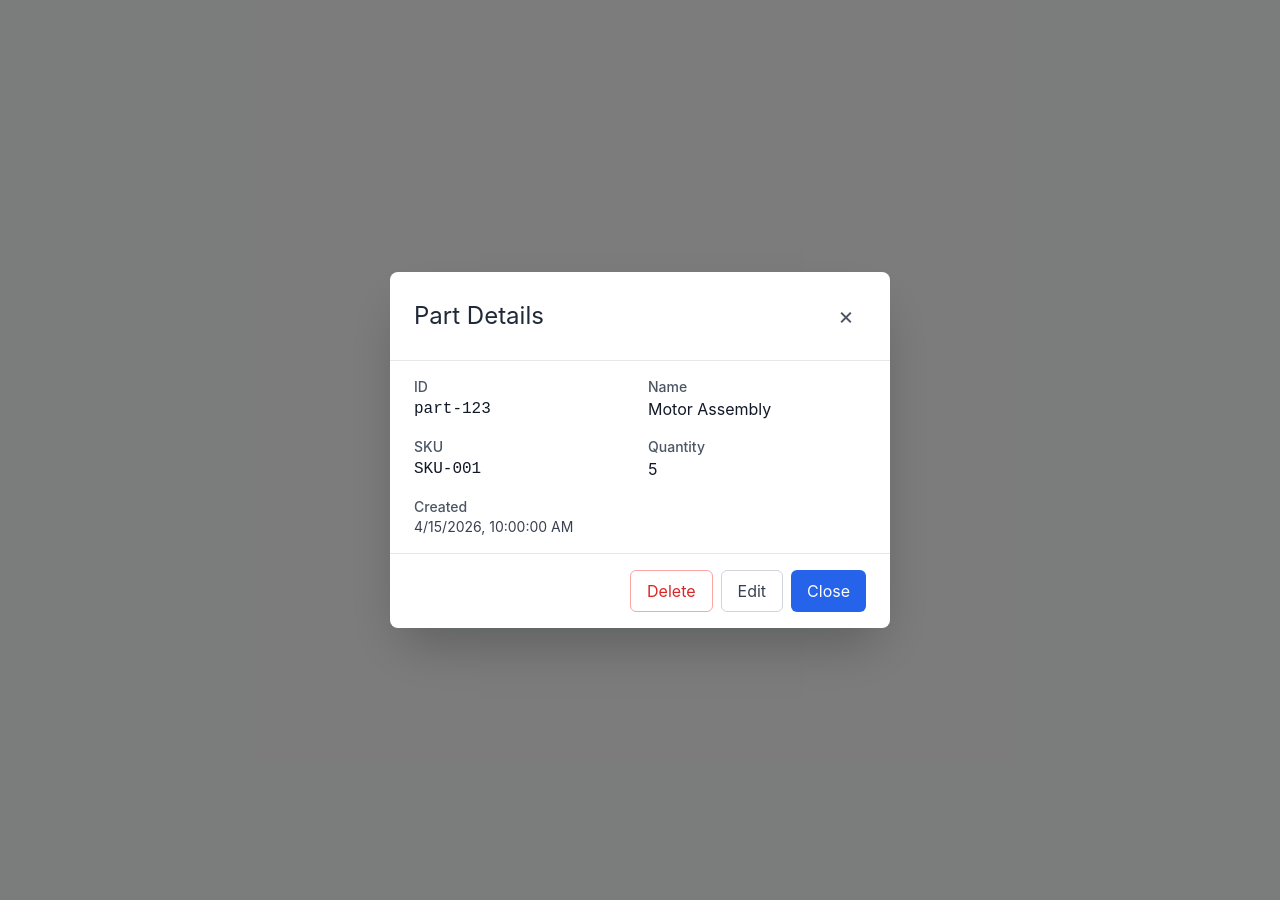
Test: PartDetailsModal Accessibility › Delete Confirmation Accessibility › should show delete confirmation dialog
Click the button "Delete" at (671, 591), box [630, 570, 712, 612]
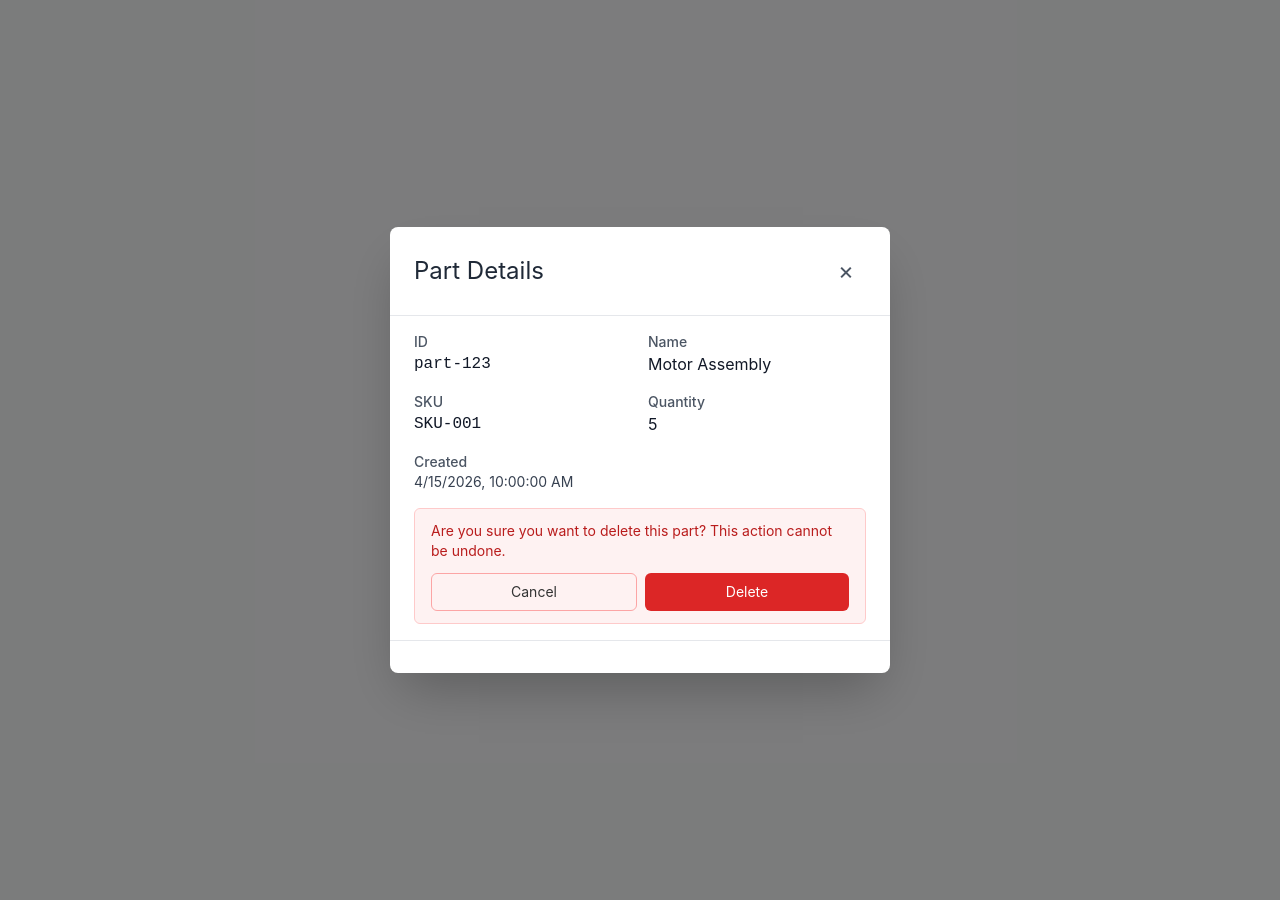
Check: the text "Are you sure you want to delete" is shown, box [431, 522, 832, 559]
